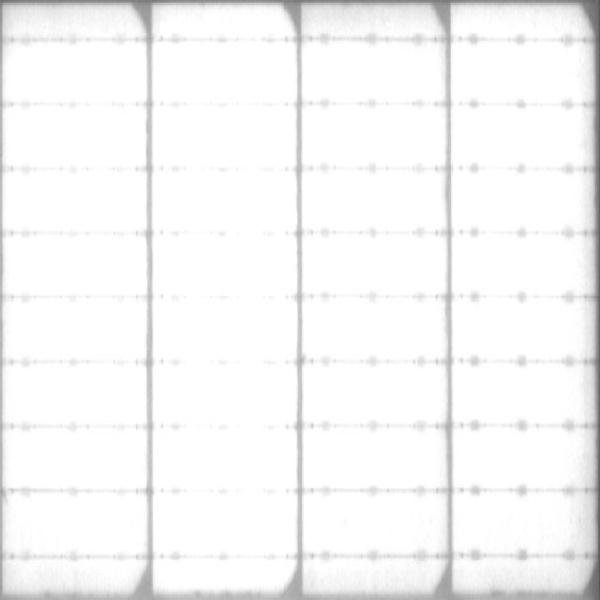hot_spot: (164, 493, 295, 553), (159, 367, 293, 422), (161, 434, 296, 488), (164, 239, 295, 294), (6, 110, 144, 162), (2, 301, 141, 352), (309, 367, 440, 421), (311, 47, 439, 101), (320, 497, 445, 552), (160, 309, 297, 359), (310, 176, 441, 227), (12, 499, 140, 551), (460, 107, 582, 161), (9, 240, 146, 288), (167, 177, 291, 230), (307, 303, 443, 351), (463, 169, 577, 226), (460, 366, 580, 420), (14, 369, 143, 419), (465, 301, 579, 357), (310, 435, 439, 484), (166, 47, 288, 98), (9, 50, 146, 95), (463, 45, 579, 98), (313, 109, 437, 158), (10, 177, 144, 222), (168, 112, 290, 161), (9, 441, 143, 485), (312, 241, 440, 287), (462, 238, 576, 289), (459, 433, 578, 481), (464, 499, 575, 548), (166, 563, 288, 581)
